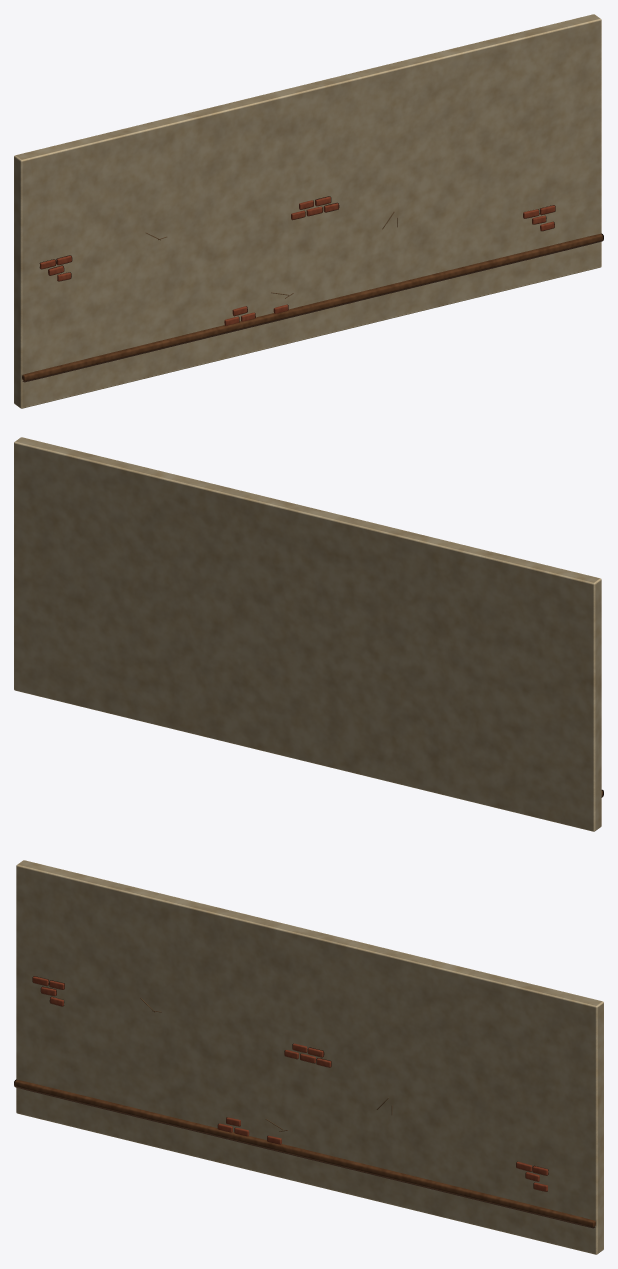
Rendered from Lab_Wall.fbx.
3 renders of one model, top to bottom at view 1: azimuth 30°, elevation 25°; view 2: azimuth 150°, elevation 25°; view 3: azimuth 330°, elevation 25°, orthographic.
Parts seen in each view (by area): view 1: Lab_Wall, Lab_Wall_Outline; view 2: Lab_Wall; view 3: Lab_Wall, Lab_Wall_Outline.
Part boxes in pixels (x1,y1,x2,y2): Lab_Wall: (14, 14, 602, 408); Lab_Wall_Outline: (22, 196, 603, 382); Lab_Wall: (14, 437, 602, 831); Lab_Wall: (15, 860, 603, 1254); Lab_Wall_Outline: (14, 976, 595, 1228).
Bounding box in the file's own units: 22 × 9 × 0.6989.
